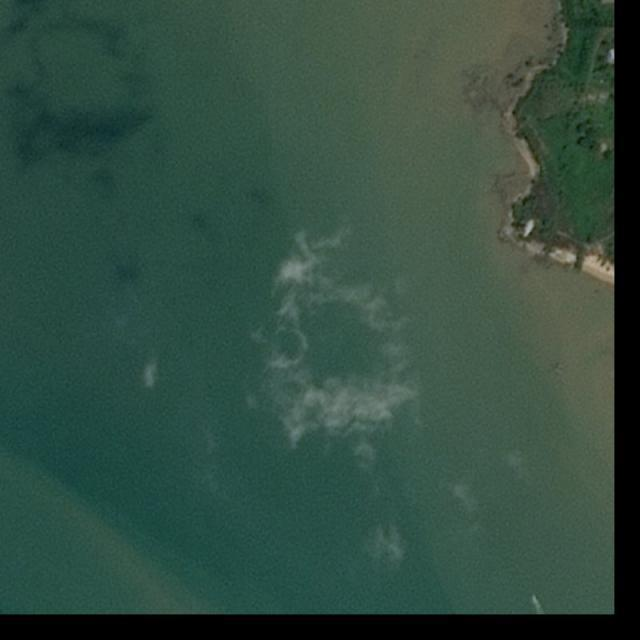ship: (534, 595, 538, 602)
